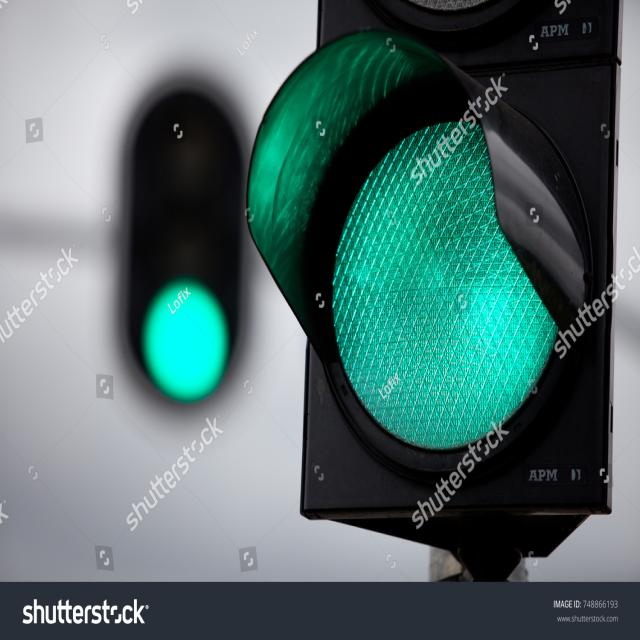green: (311, 112, 586, 448), (142, 281, 225, 391)
